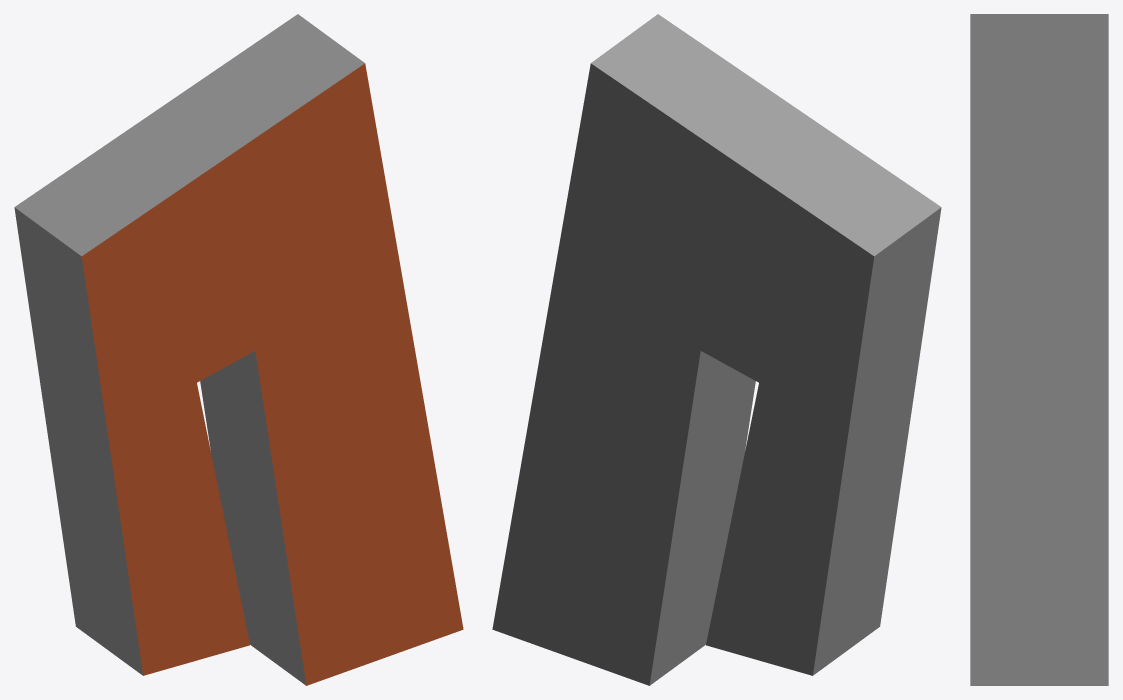
Rendered from construction_6123_assumed_A_Casa_h6m.obj.
3 views of the same model, side by side, from view 1: azimuth 30°, elevation 25°; view 2: azimuth 150°, elevation 25°; view 3: azimuth 270°, elevation 25° (orthographic). The views are drawn at different scales.
Visible parts, largest first — view 1: construction_6123_assumed_A_Casa; view 2: construction_6123_assumed_A_Casa; view 3: construction_6123_assumed_A_Casa.
Boxes of the visible parts, bbox=[...] form: construction_6123_assumed_A_Casa: bbox=[14, 14, 463, 685]; construction_6123_assumed_A_Casa: bbox=[492, 14, 941, 685]; construction_6123_assumed_A_Casa: bbox=[970, 14, 1108, 685].
Bounding box in the file's own units: 19.66 × 29.93 × 6.
